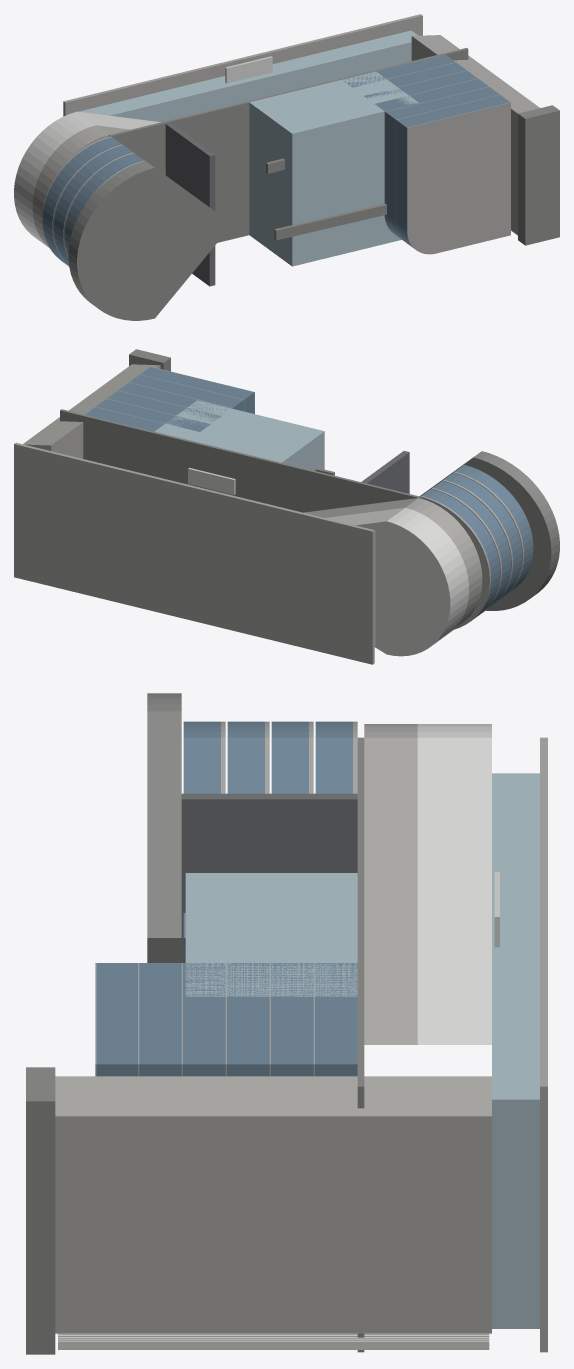
The model's file is building_3d_model.glb.
3 views of the same model, one above another, from view 1: azimuth 30°, elevation 25°; view 2: azimuth 150°, elevation 25°; view 3: azimuth 270°, elevation 25° (orthographic). The views are drawn at different scales.
Visible parts, largest first — view 1: part_50, part_49, part_62, part_1, part_39, part_78, part_0, part_48, part_63, part_59, part_61, part_4 (+11 smaller); view 2: part_0, part_39, part_2, part_50, part_49, part_4, part_63, part_3, part_45, part_47, part_43, part_41 (+10 smaller); view 3: part_63, part_1, part_50, part_4, part_48, part_2, part_3, part_49, part_78, part_0, part_59, part_57 (+14 smaller).
Part boxes in pixels (x1=…): part_50: x1=249, y1=71, x2=418, y2=266; part_49: x1=68, y1=161, x2=232, y2=320; part_62: x1=407, y1=102, x2=510, y2=254; part_1: x1=79, y1=30, x2=417, y2=122; part_39: x1=109, y1=47, x2=468, y2=242; part_78: x1=518, y1=105, x2=559, y2=245; part_0: x1=63, y1=14, x2=422, y2=116; part_48: x1=165, y1=122, x2=215, y2=286; part_63: x1=411, y1=35, x2=539, y2=233; part_59: x1=385, y1=87, x2=499, y2=240; part_61: x1=396, y1=95, x2=509, y2=247; part_4: x1=32, y1=125, x2=129, y2=246; part_0: x1=14, y1=442, x2=374, y2=664; part_39: x1=60, y1=409, x2=420, y2=512; part_2: x1=341, y1=514, x2=459, y2=656; part_50: x1=155, y1=400, x2=324, y2=470; part_49: x1=420, y1=451, x2=559, y2=610; part_4: x1=304, y1=498, x2=482, y2=629; part_63: x1=23, y1=364, x2=160, y2=458; part_3: x1=326, y1=507, x2=468, y2=637; part_45: x1=420, y1=473, x2=522, y2=602; part_47: x1=425, y1=465, x2=533, y2=595; part_43: x1=424, y1=481, x2=511, y2=610; part_41: x1=421, y1=489, x2=500, y2=619; part_63: x1=55, y1=1076, x2=491, y2=1333; part_1: x1=492, y1=773, x2=539, y2=1328; part_50: x1=185, y1=873, x2=357, y2=996; part_4: x1=364, y1=724, x2=417, y2=1044; part_48: x1=181, y1=793, x2=357, y2=962; part_2: x1=454, y1=724, x2=491, y2=1044; part_3: x1=417, y1=724, x2=454, y2=1044; part_49: x1=147, y1=693, x2=181, y2=962; part_78: x1=26, y1=1067, x2=55, y2=1354; part_0: x1=540, y1=737, x2=547, y2=1352; part_59: x1=139, y1=963, x2=181, y2=1076; part_57: x1=183, y1=963, x2=225, y2=1076.
Bounding box in the file's own units: 78.48 × 25 × 39.2.
